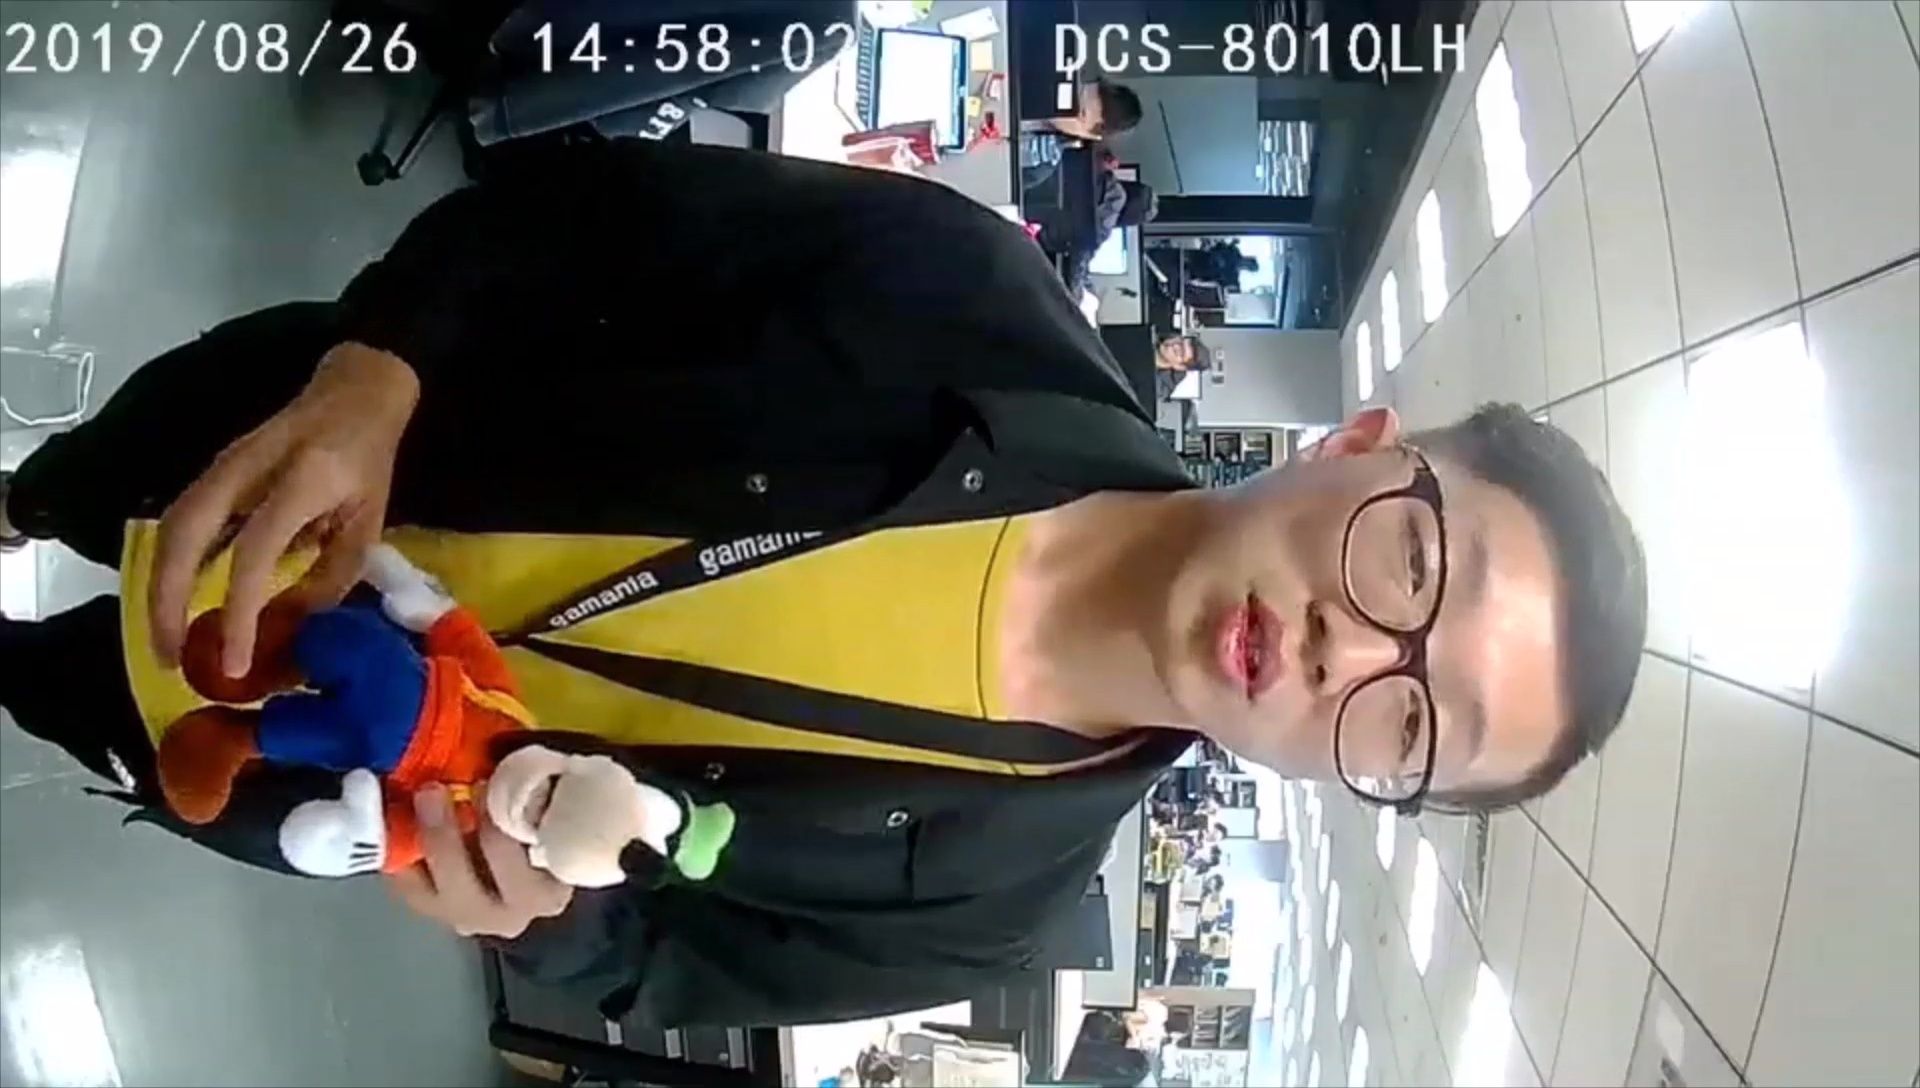goofy: (156, 530, 741, 885)
